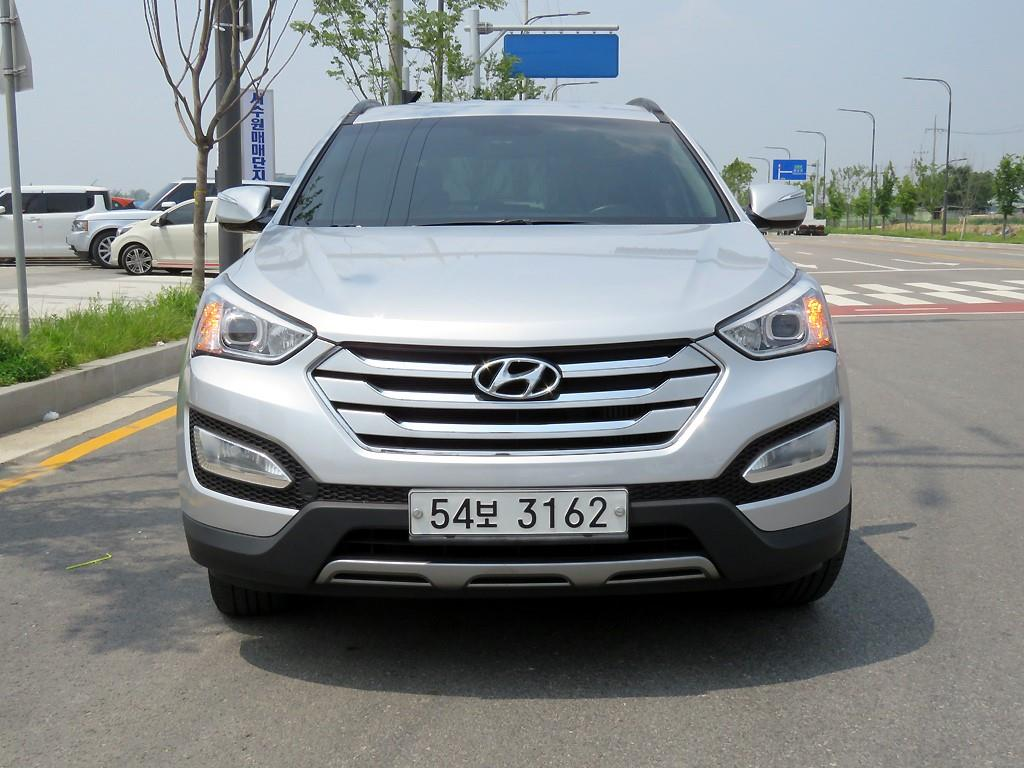plate: (409, 494, 625, 534)
